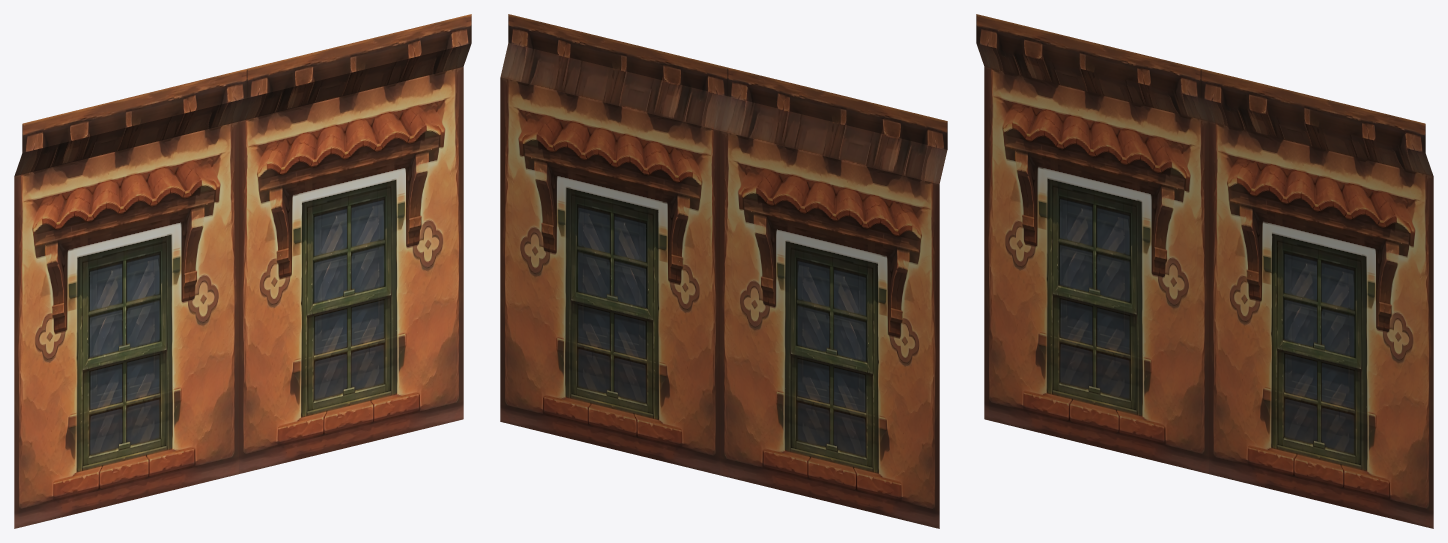
Rendered from MSN_U_Bay4B.fbx.
3 renders of one model, left to right at view 1: azimuth 30°, elevation 25°; view 2: azimuth 150°, elevation 25°; view 3: azimuth 330°, elevation 25°, orthographic. The views are drawn at different scales.
Parts seen in each view (by area): view 1: MSN_U_Bay4B; view 2: MSN_U_Bay4B; view 3: MSN_U_Bay4B.
Boxes of the visible parts, x1,y1,x2,y2 form: MSN_U_Bay4B: (14,14,471,528); MSN_U_Bay4B: (500,14,947,528); MSN_U_Bay4B: (976,14,1433,528).
Bounding box in the file's own units: 4 × 0.125 × 3.5.
Materials: 1 (1 with a texture image).
